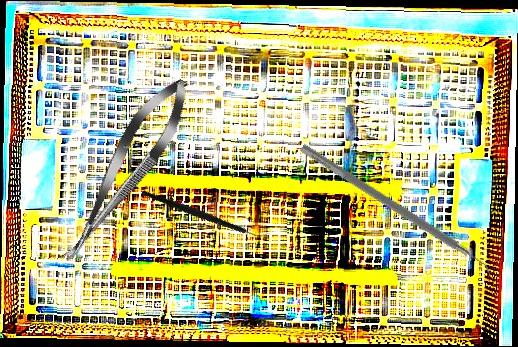Chopper: (141, 152, 270, 275)
Micro Scissor: (47, 68, 203, 273)
Spatula Surgical: (294, 143, 501, 282)
